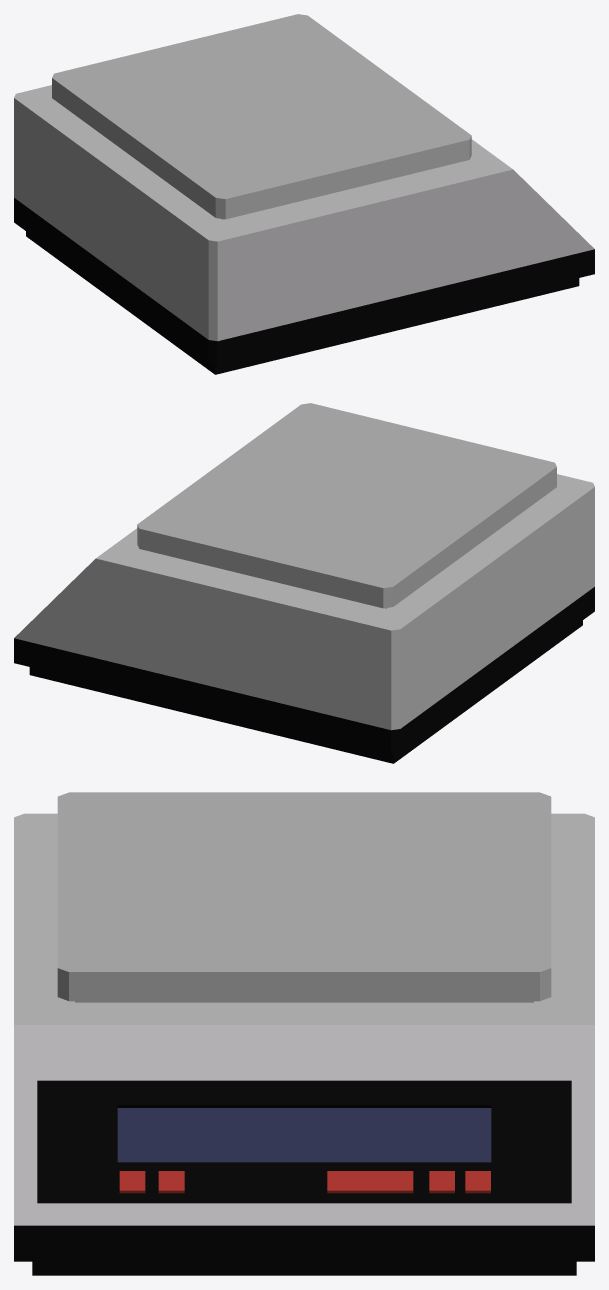
The model's file is SM_weighingMachine_01.glb.
The picture shows the model from 3 angles, top to bottom: view 1: azimuth 30°, elevation 25°; view 2: azimuth 150°, elevation 25°; view 3: azimuth 270°, elevation 25°; orthographic projection. The views are drawn at different scales.
Parts seen in each view (by area): view 1: SM_weighingMachine_01; view 2: SM_weighingMachine_01; view 3: SM_weighingMachine_01.
Part boxes in pixels (left/top/right/bottom): SM_weighingMachine_01: left=14, top=14, right=594, bottom=374; SM_weighingMachine_01: left=14, top=403, right=594, bottom=763; SM_weighingMachine_01: left=14, top=792, right=594, bottom=1275.
Bounding box in the file's own units: 0.496 × 0.2038 × 0.4532.
1 material, 1 textured.
